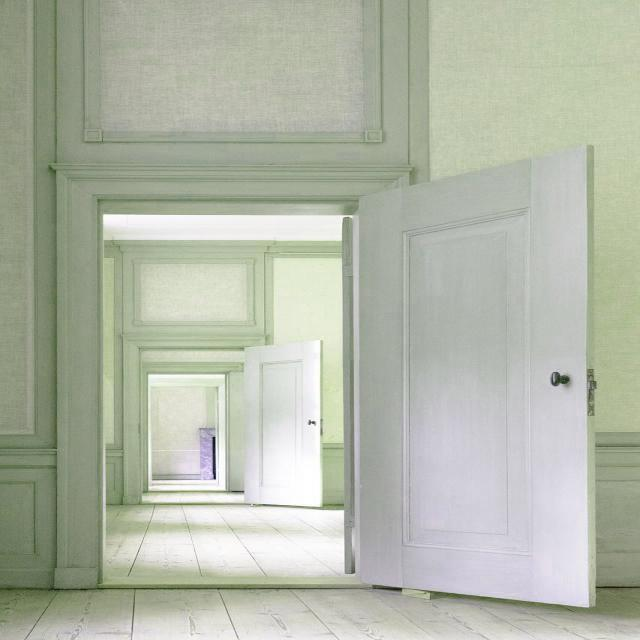door: (350, 143, 594, 607), (248, 336, 328, 512)
